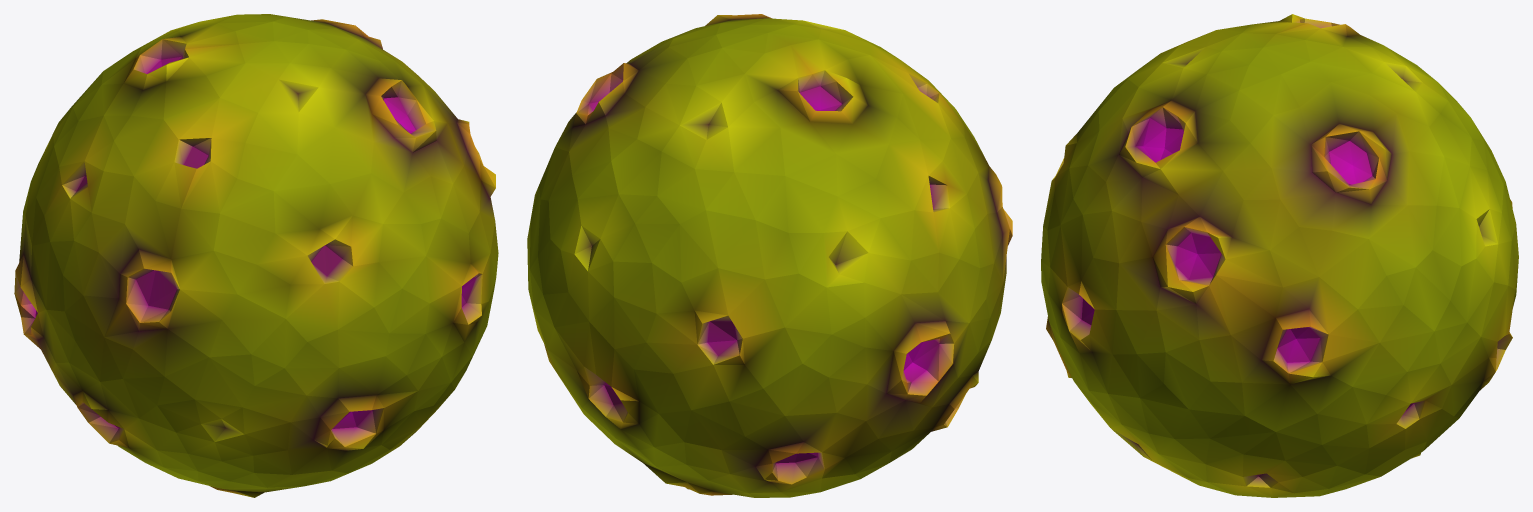
Rendered from moon38.fbx.
The picture shows the model from 3 angles, left to right: view 1: azimuth 30°, elevation 25°; view 2: azimuth 150°, elevation 25°; view 3: azimuth 270°, elevation 25°; orthographic projection.
Visible parts, largest first — view 1: attribblur1; view 2: attribblur1; view 3: attribblur1.
Boxes of the visible parts, x1,y1,x2,y2 form: attribblur1: (14,14,498,497); attribblur1: (527,14,1012,497); attribblur1: (1041,14,1518,497).
Size of the model in its own units: 0.9255 by 0.909 by 0.9044.
